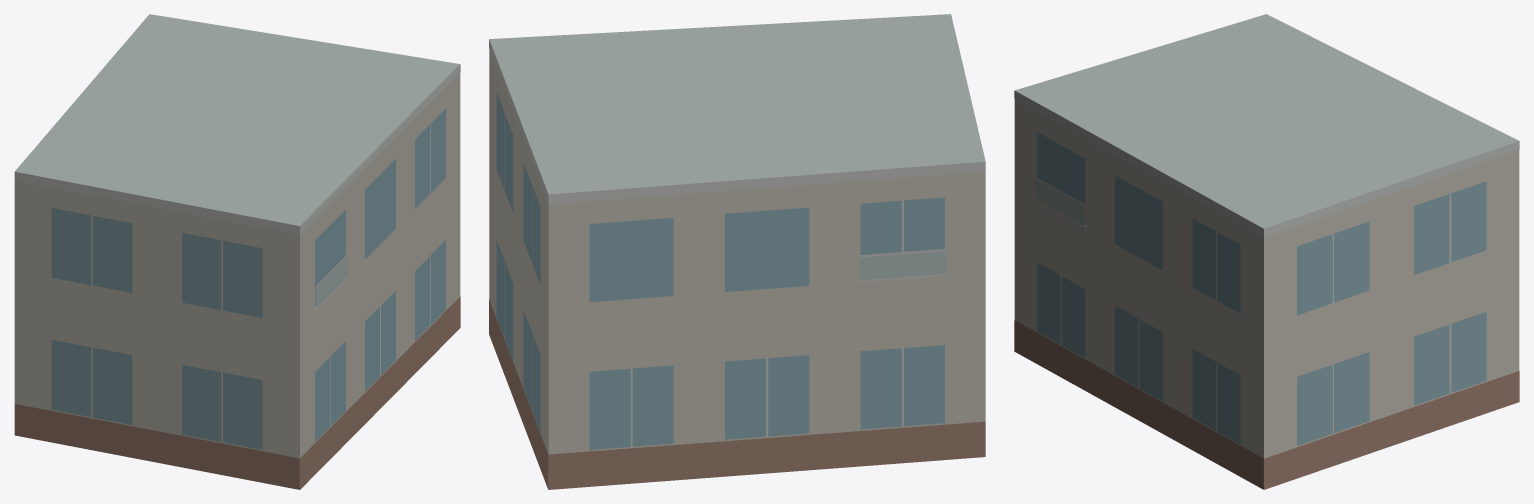
The model's file is survey-upis-32611657.glb.
3 renders of one model, left to right at view 1: azimuth 30°, elevation 25°; view 2: azimuth 150°, elevation 25°; view 3: azimuth 270°, elevation 25°, orthographic. The views are drawn at different scales.
Parts seen in each view (by area): view 1: survey-upis-32611657.tmp; view 2: survey-upis-32611657.tmp; view 3: survey-upis-32611657.tmp.
Part boxes in pixels (x1,y1,x2,y2): survey-upis-32611657.tmp: (14, 14, 460, 489); survey-upis-32611657.tmp: (489, 14, 985, 489); survey-upis-32611657.tmp: (1014, 14, 1519, 489).
Bounding box in the file's own units: 13.06 × 7.4 × 12.98.
